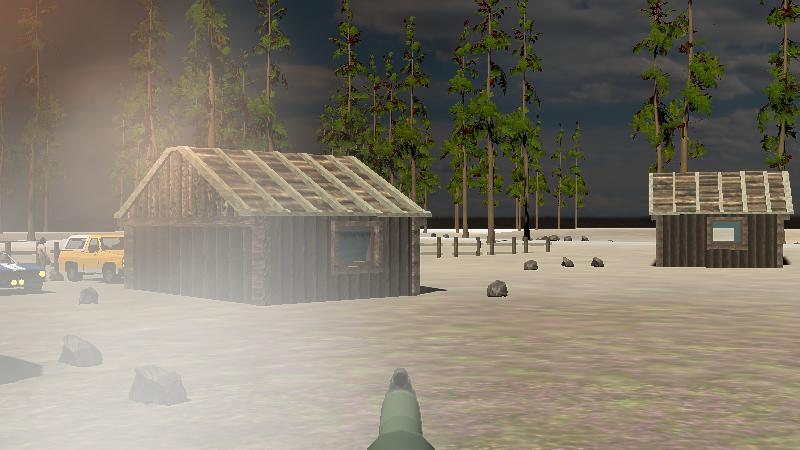House: (113, 148, 432, 306), (649, 171, 793, 269)
Human: (521, 223, 531, 250), (475, 235, 483, 257)
car: (52, 233, 125, 283), (0, 248, 27, 295)
